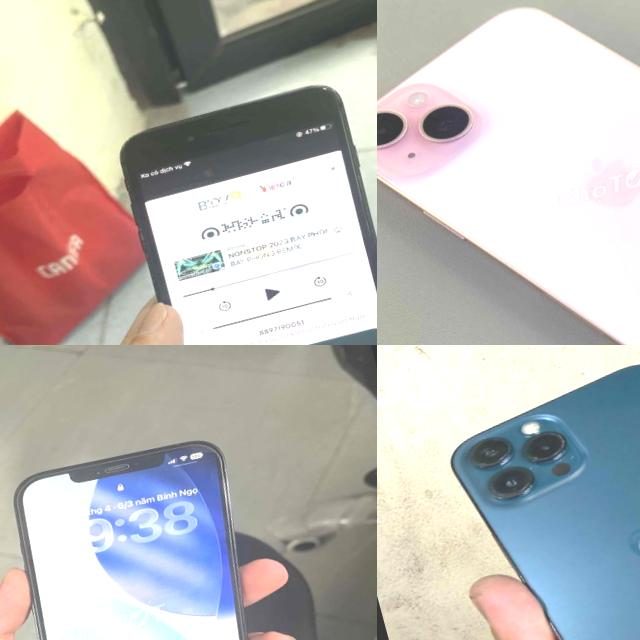gen_12_13: (0, 423, 307, 640), (451, 365, 640, 640)
gen_15: (377, 0, 640, 345)
gen_7_8: (89, 73, 377, 345)
scratch: (590, 476, 640, 595), (108, 116, 201, 150), (126, 214, 156, 272), (304, 76, 342, 106)
